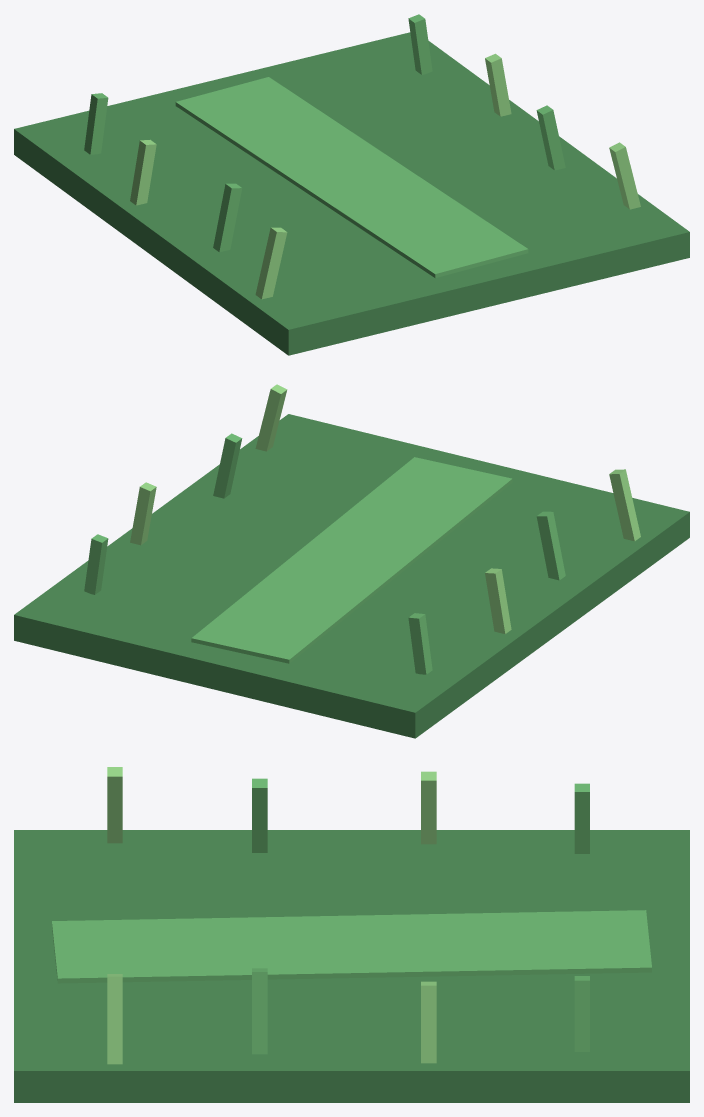
File: track_grass_1lane.glb
3 views of the same model, one above another, from view 1: azimuth 30°, elevation 25°; view 2: azimuth 150°, elevation 25°; view 3: azimuth 270°, elevation 25° (orthographic). The views are drawn at different scales.
Visible parts, largest first — view 1: track_grass_1lane; view 2: track_grass_1lane; view 3: track_grass_1lane.
Part boxes in pixels (x1,y1,x2,y2): track_grass_1lane: (14, 14, 689, 355); track_grass_1lane: (14, 384, 689, 738); track_grass_1lane: (14, 767, 689, 1102).
Bounding box in the file's own units: 2.6 × 0.5544 × 3.08.
